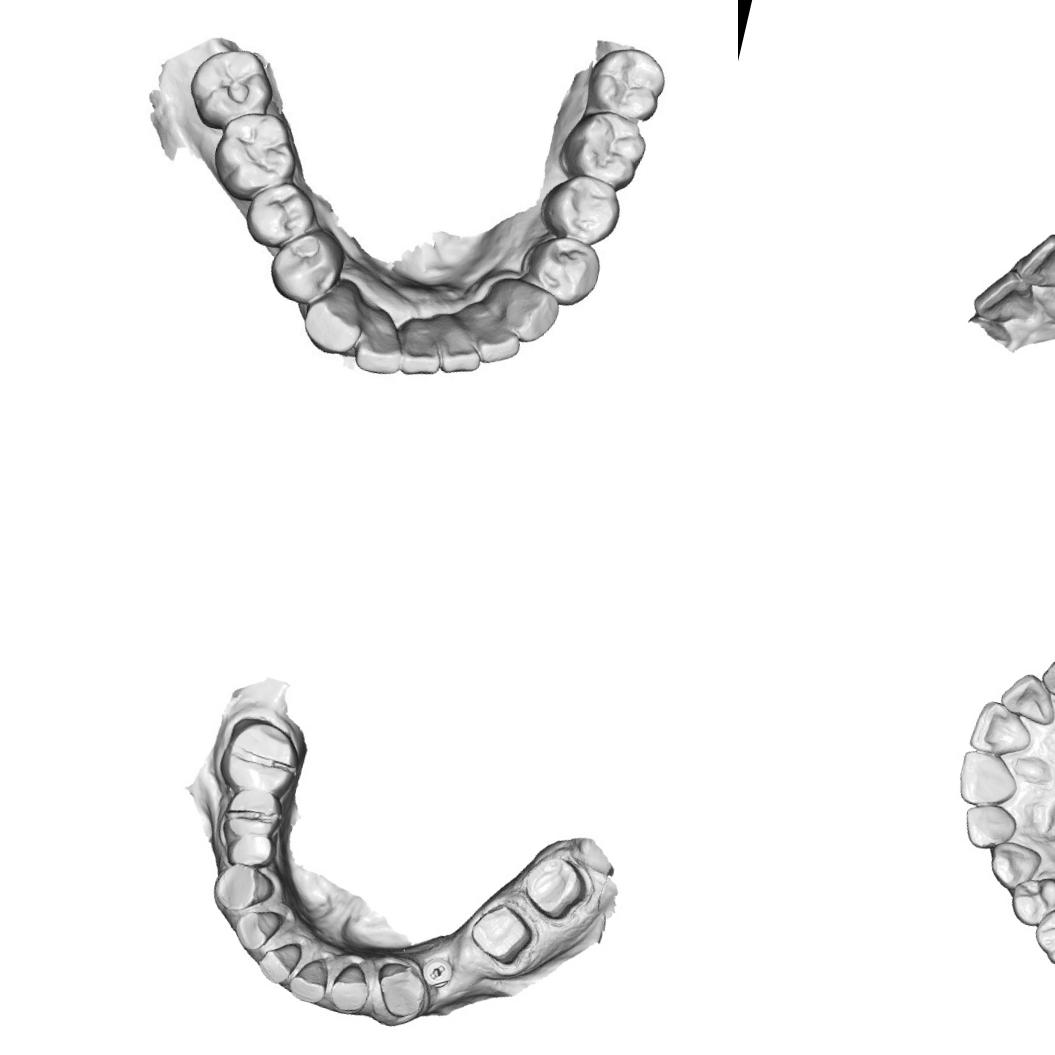canine: (299, 278, 374, 362), (480, 272, 564, 347), (208, 854, 280, 922), (370, 956, 434, 1022), (982, 836, 1046, 897), (1035, 645, 1055, 707)
crown: (512, 846, 597, 927), (461, 897, 542, 972)
implant_minus: (419, 954, 460, 990)
incisor: (969, 261, 1044, 332), (455, 303, 528, 373), (349, 300, 413, 378), (952, 747, 1024, 815), (967, 696, 1040, 763), (390, 315, 452, 382), (426, 315, 488, 380), (957, 798, 1022, 856), (995, 667, 1055, 729), (324, 955, 378, 1018), (1010, 225, 1055, 298), (254, 932, 304, 992), (285, 950, 334, 1008), (226, 906, 278, 958)
molar: (182, 39, 278, 138), (558, 103, 654, 199), (214, 711, 310, 801), (585, 40, 677, 132), (212, 106, 302, 200)
premolar: (535, 165, 633, 256), (517, 232, 609, 316), (264, 221, 343, 308), (240, 174, 313, 252), (216, 786, 290, 848), (1004, 868, 1055, 934), (222, 828, 282, 872), (1027, 895, 1055, 976)
